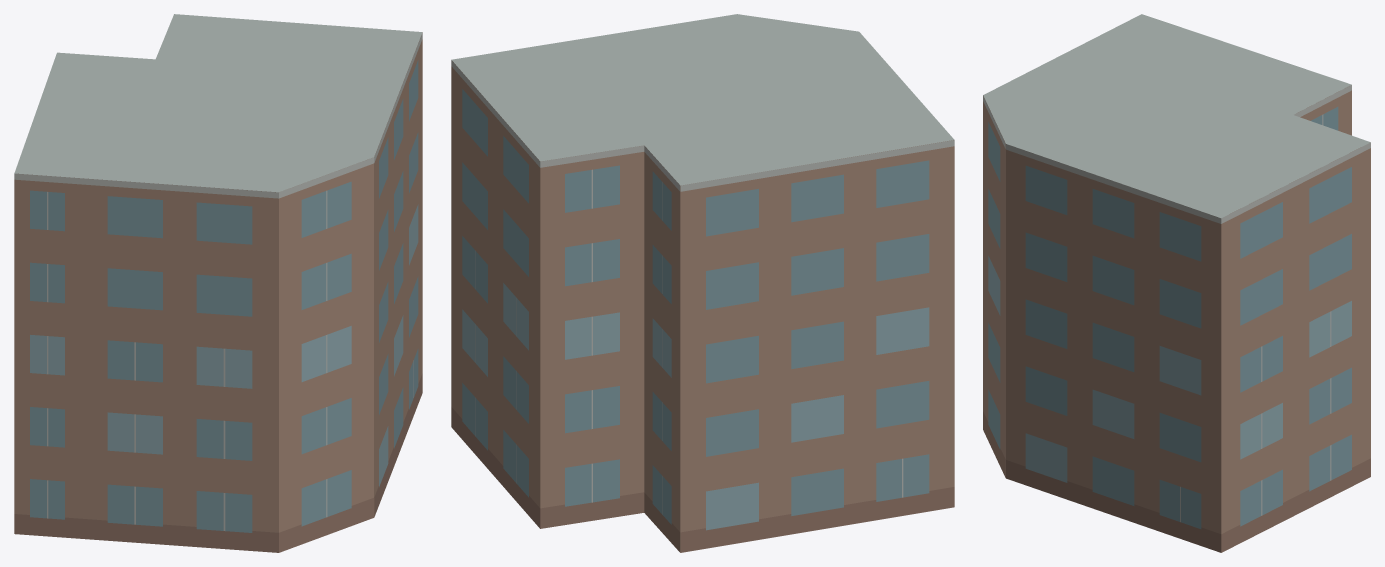
File: survey-upis-32703297.glb
3 views of the same model, side by side, from view 1: azimuth 30°, elevation 25°; view 2: azimuth 150°, elevation 25°; view 3: azimuth 270°, elevation 25° (orthographic). The views are drawn at different scales.
Visible parts, largest first — view 1: survey-upis-32703297.tmp; view 2: survey-upis-32703297.tmp; view 3: survey-upis-32703297.tmp.
Part boxes in pixels (x1,y1,x2,y2): survey-upis-32703297.tmp: (14, 14, 422, 552); survey-upis-32703297.tmp: (451, 14, 954, 552); survey-upis-32703297.tmp: (983, 14, 1370, 552).
Bounding box in the file's own units: 18.54 × 14.15 × 14.87.
